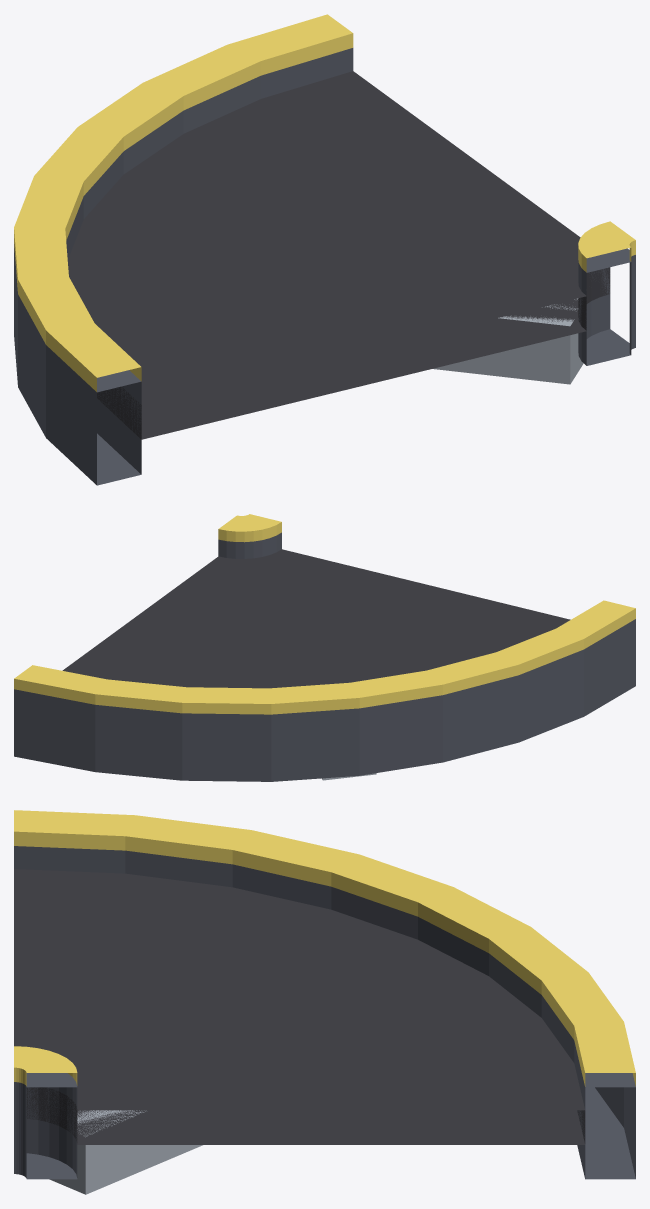
File: esteira_curva_dir.glb
3 renders of one model, top to bottom at view 1: azimuth 30°, elevation 25°; view 2: azimuth 150°, elevation 25°; view 3: azimuth 270°, elevation 25°, orthographic. The views are drawn at different scales.
Visible parts, largest first — view 1: EST_Curva; view 2: EST_Curva; view 3: EST_Curva.
Boxes of the visible parts, x1=… form: EST_Curva: x1=14, y1=14, x2=635, y2=485; EST_Curva: x1=14, y1=514, x2=635, y2=781; EST_Curva: x1=14, y1=810, x2=635, y2=1194.
Size of the model in its own units: 0.98 by 0.225 by 0.98.
